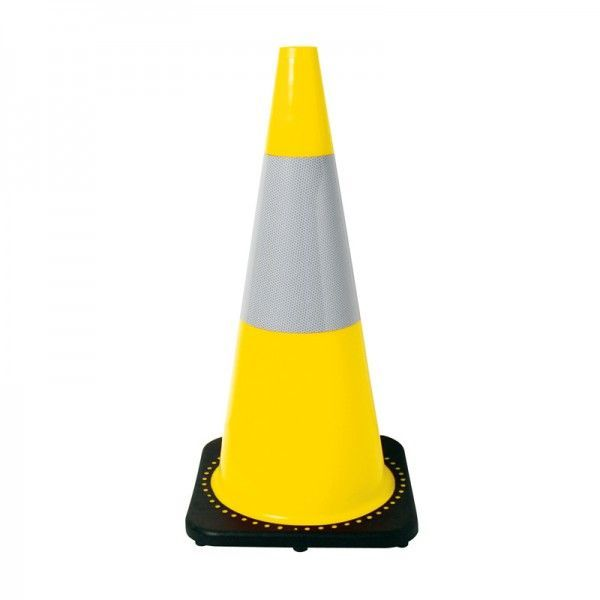yellowC: (167, 37, 434, 561)
